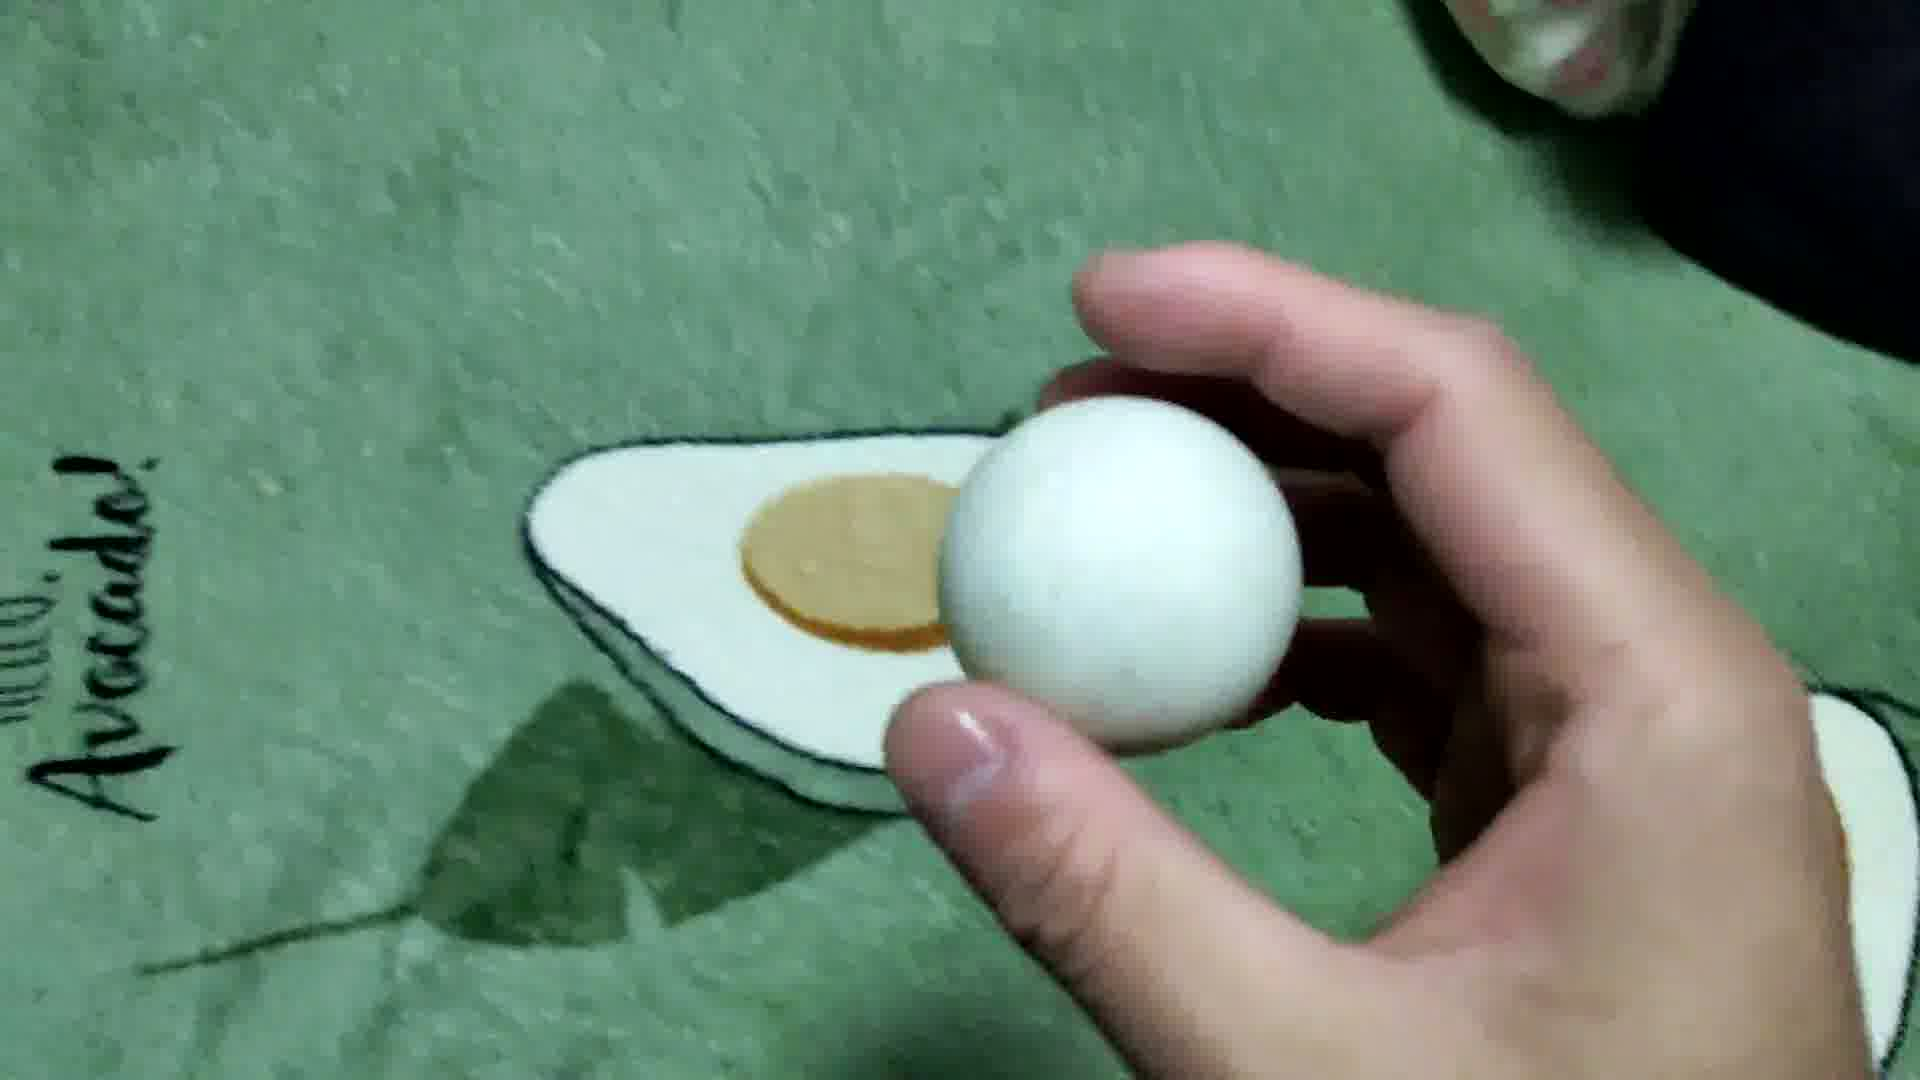Ball: (935, 400, 1299, 745)
